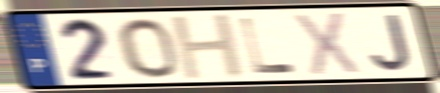2: (58, 15, 121, 84)
H: (167, 11, 249, 82)
J: (369, 12, 415, 74)
L: (237, 16, 298, 76)
O: (115, 16, 182, 80)
X: (292, 10, 363, 78)
